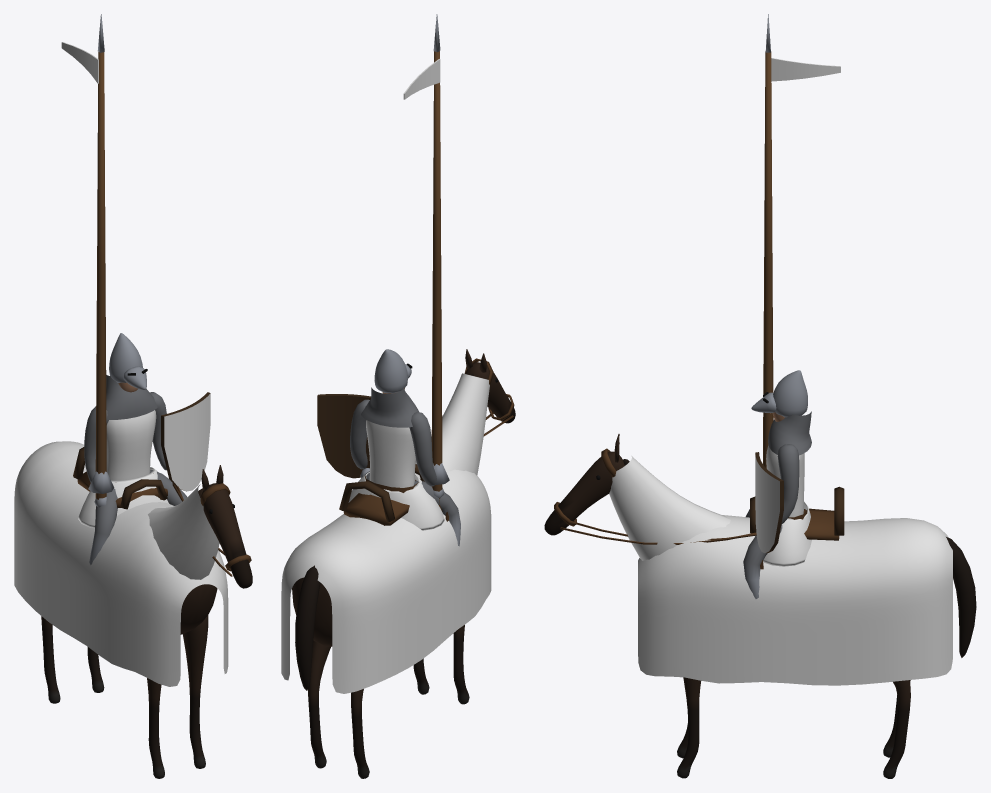
File: cavalry_0.glb
The picture shows the model from 3 angles, left to right: view 1: azimuth 30°, elevation 25°; view 2: azimuth 150°, elevation 25°; view 3: azimuth 270°, elevation 25°; orthographic projection.
Visible parts, largest first — view 1: cavalry_0; view 2: cavalry_0; view 3: cavalry_0.
Part boxes in pixels (x1,y1,x2,y2): cavalry_0: (14,14,252,778); cavalry_0: (281,14,515,778); cavalry_0: (544,14,976,778).
Size of the model in its own units: 0.9372 by 4.93 by 2.62.
